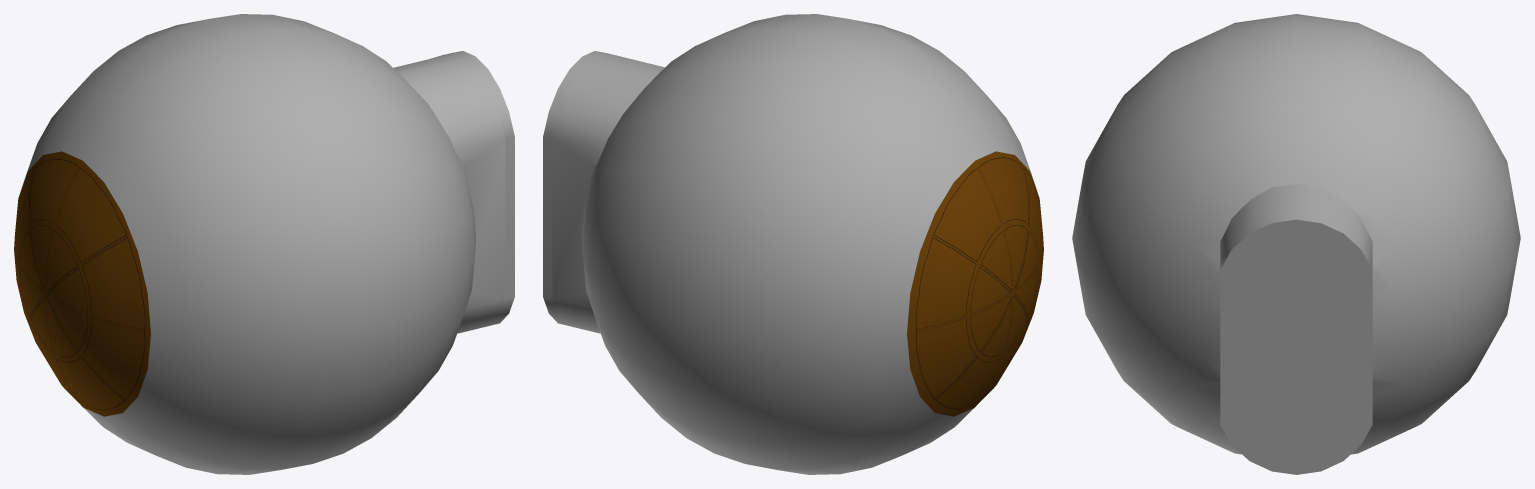
File: pod02.fbx
3 renders of one model, left to right at view 1: azimuth 30°, elevation 25°; view 2: azimuth 150°, elevation 25°; view 3: azimuth 270°, elevation 25°, orthographic. The views are drawn at different scales.
Parts seen in each view (by area): view 1: Pod, Window, Window1, Door; view 2: Pod, Window, Window1, Door; view 3: Pod, Door.
Boxes of the visible parts, <box> form: Pod: <box>21,14,505,474</box>; Window: <box>14,151,150,416</box>; Window1: <box>14,151,150,415</box>; Door: <box>444,51,514,325</box>; Pod: <box>552,14,1036,474</box>; Window: <box>907,151,1043,416</box>; Window1: <box>907,152,1043,415</box>; Door: <box>543,51,613,325</box>; Pod: <box>1072,14,1520,454</box>; Door: <box>1220,215,1372,474</box>.
Size of the model in its own units: 4.13 by 3.84 by 3.84.
Materials: 2 (1 with a texture image).
